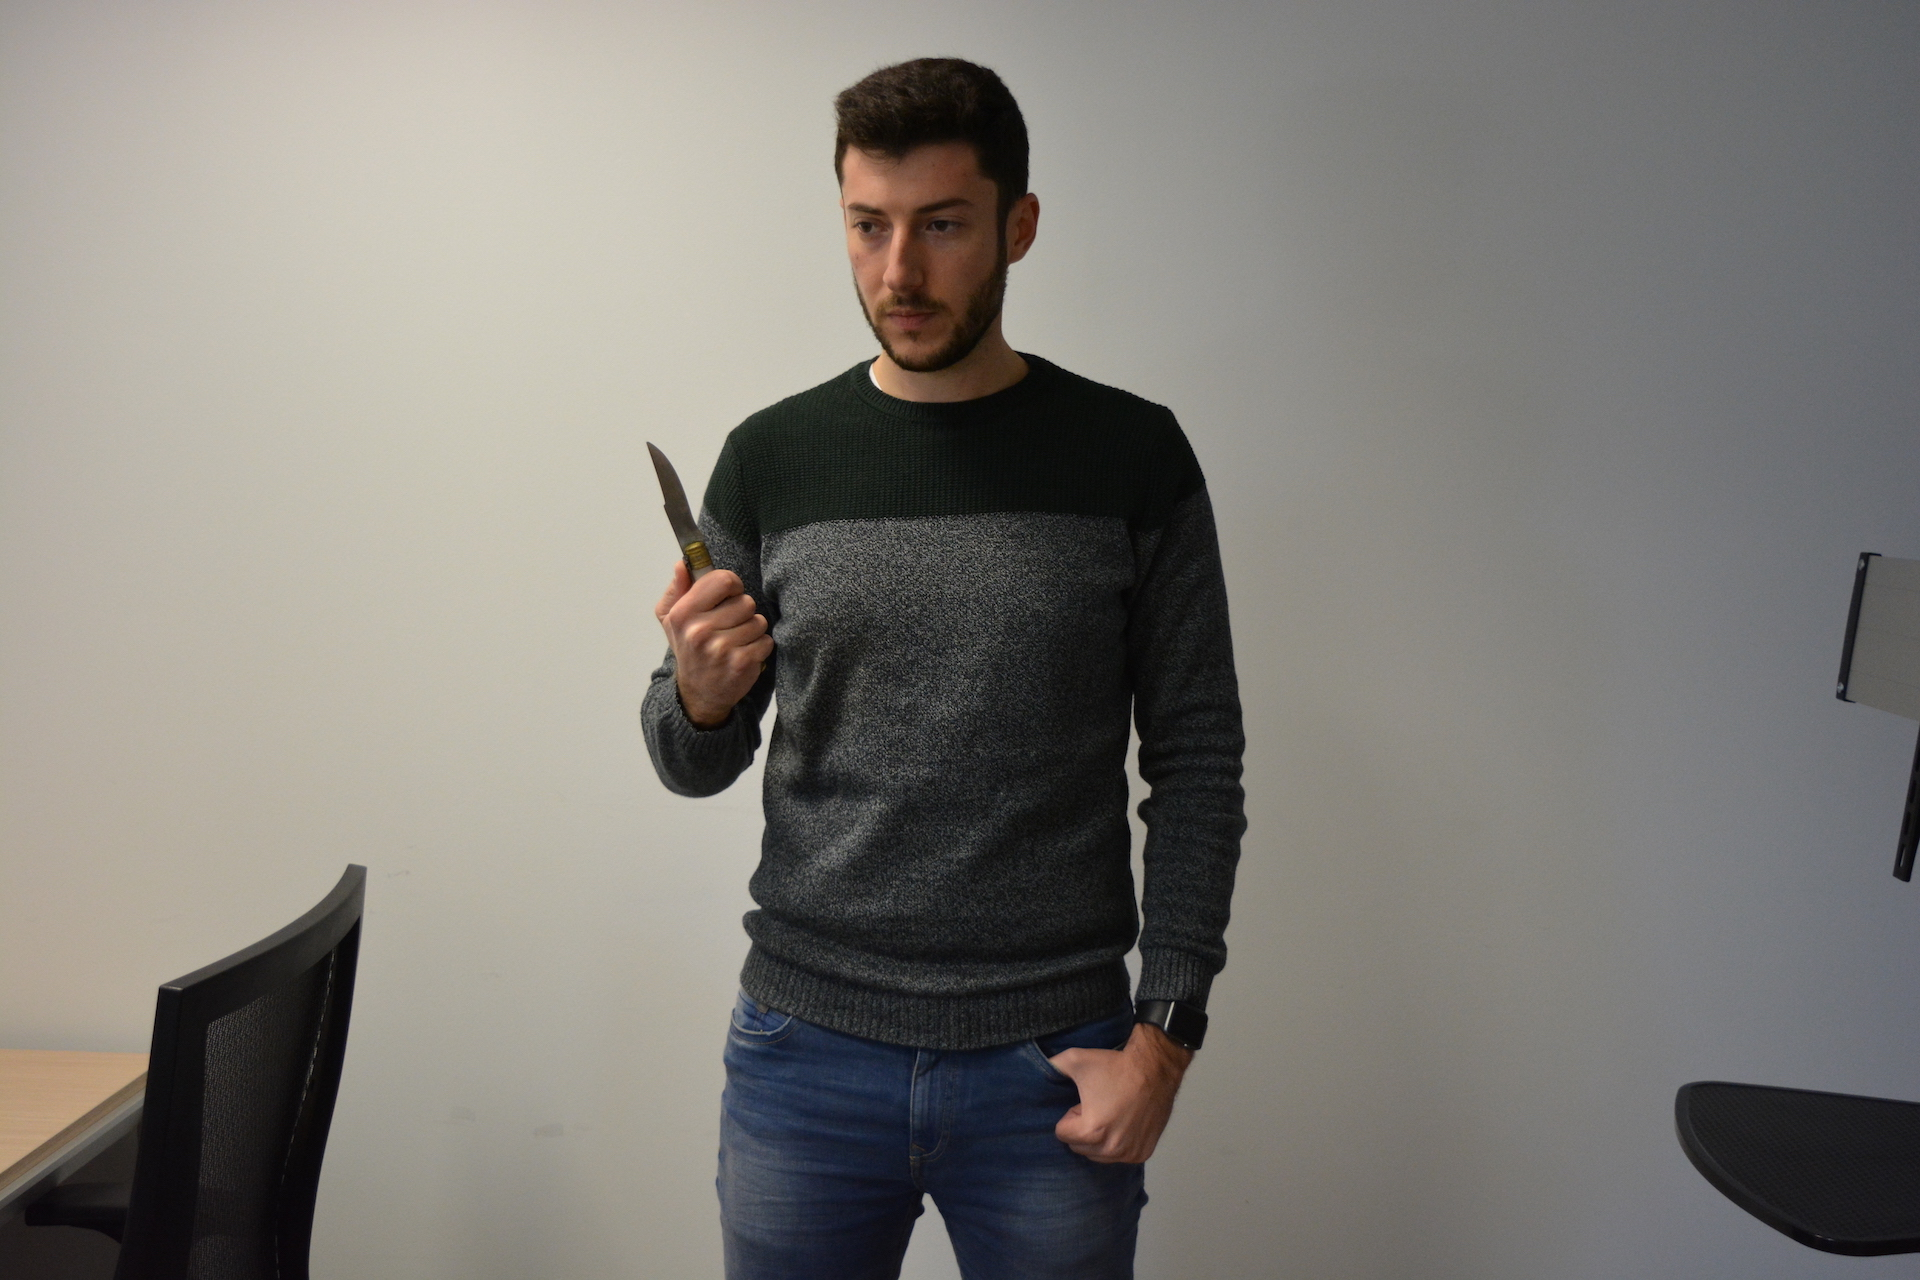knife: (634, 433, 751, 616)
